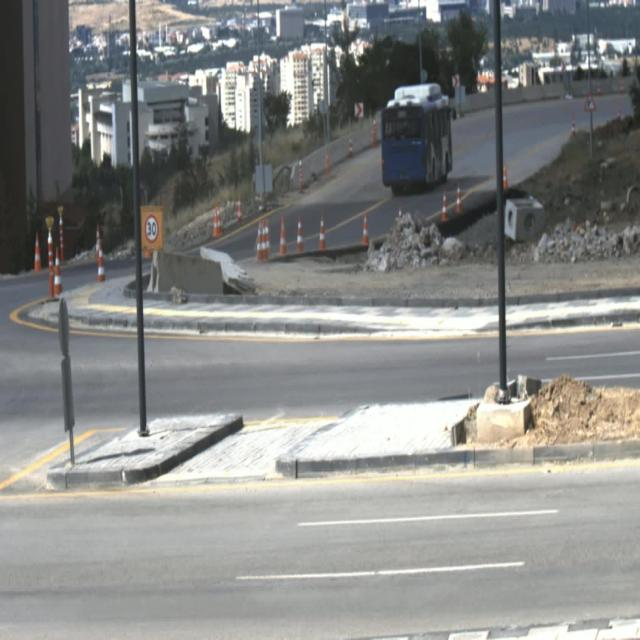Bus: (381, 87, 454, 202)
